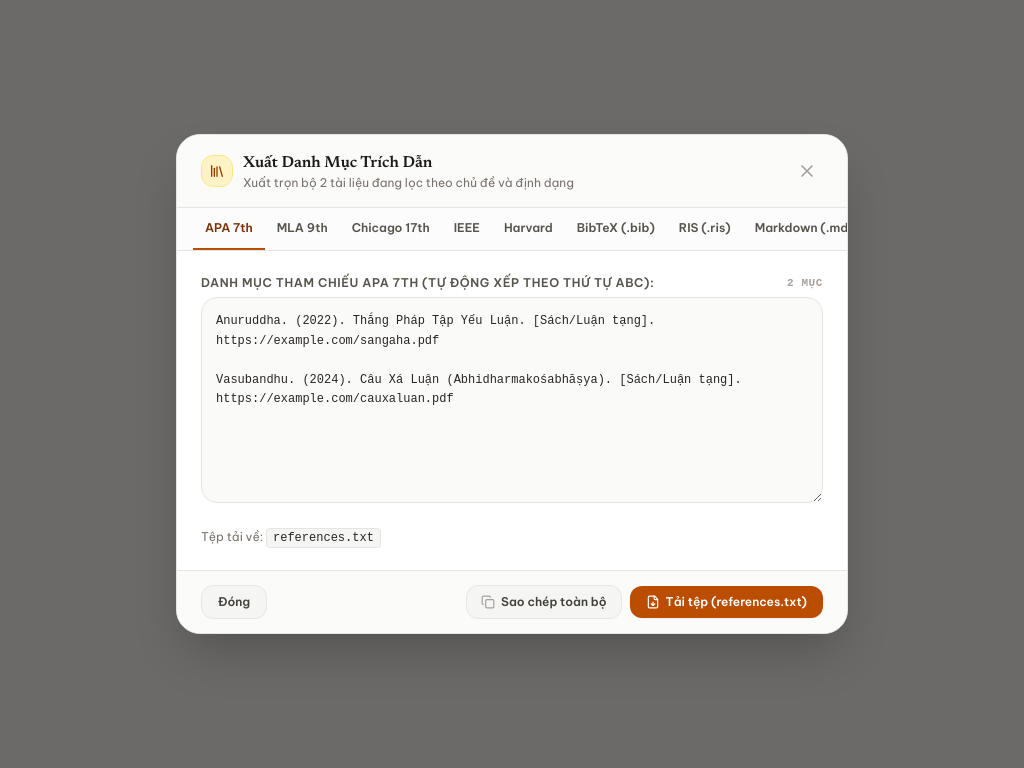
Test case: Scholar Batch Citation Modal UI Integration › 5. Nhấn Sao Chép Toàn Bộ ghi vào clipboard và hiện phản hồi inline
Click the button "Sao chép toàn bộ" at coordinates (544, 602), box [466,585,622,619]
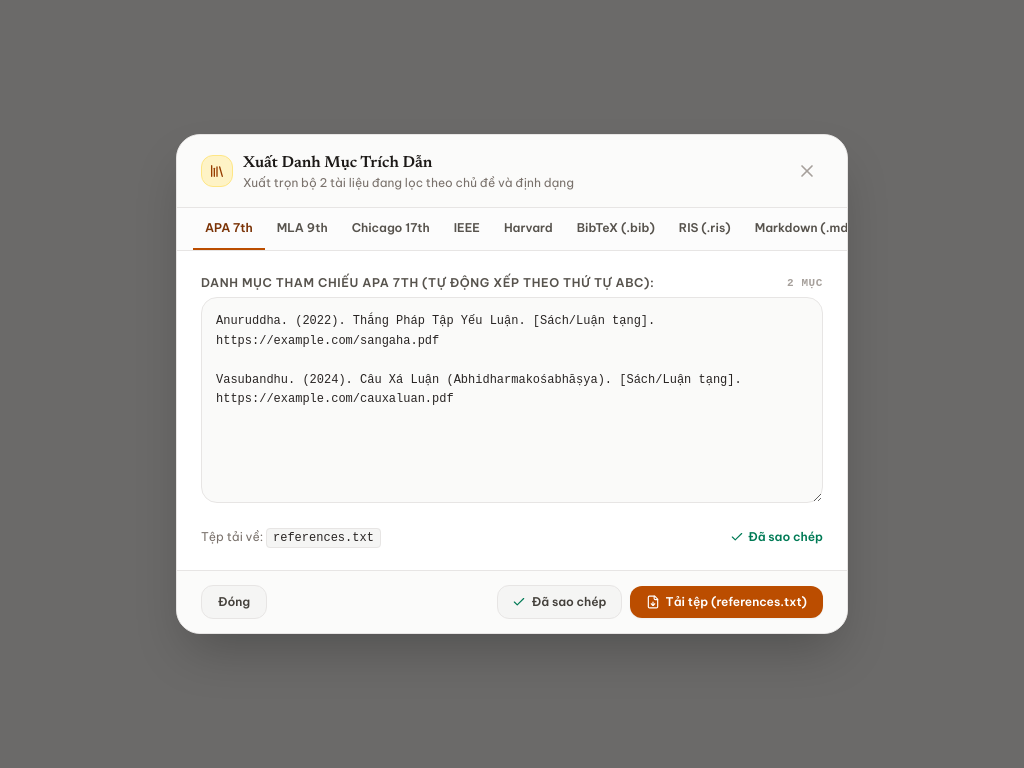
Now the text "Đã sao chép" is shown, box [730,529,823,545]
